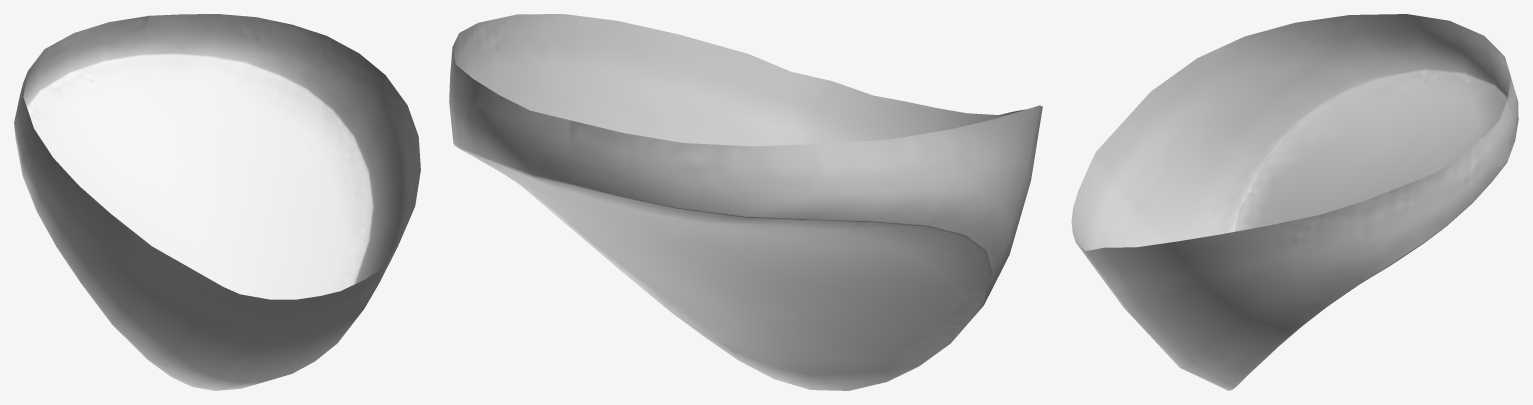
3 renders of one model, left to right at view 1: azimuth 30°, elevation 25°; view 2: azimuth 150°, elevation 25°; view 3: azimuth 270°, elevation 25°, orthographic. The views are drawn at different scales.
Size of the model in its own units: 0.0286 by 0.0215 by 0.0294.
1 material, 1 textured.
